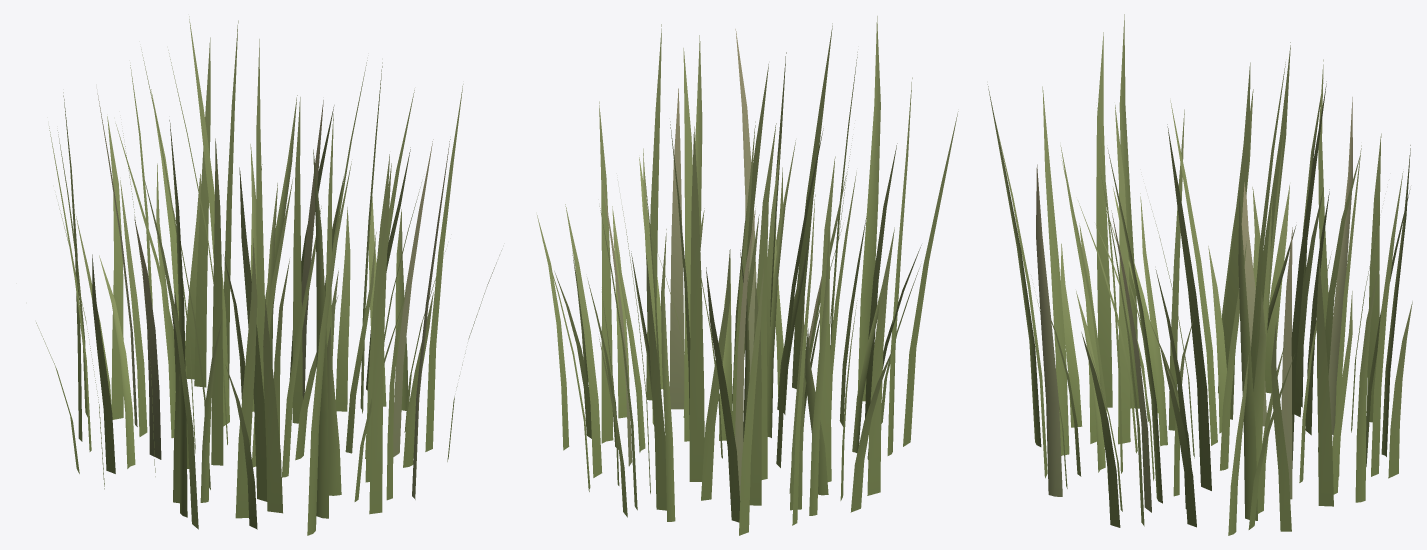
The model's file is grass-tuft-a.glb.
3 renders of one model, left to right at view 1: azimuth 30°, elevation 25°; view 2: azimuth 150°, elevation 25°; view 3: azimuth 270°, elevation 25°, orthographic. The views are drawn at different scales.
Parts seen in each view (by area): view 1: grass-tuft-a_LOD0; view 2: grass-tuft-a_LOD0; view 3: grass-tuft-a_LOD0.
Part boxes in pixels (left/top/right/bottom): grass-tuft-a_LOD0: left=36, top=16, right=501, bottom=535; grass-tuft-a_LOD0: left=537, top=16, right=958, bottom=535; grass-tuft-a_LOD0: left=987, top=14, right=1412, bottom=535.
Size of what is drawn, in the model's own units: 1 by 1 by 1.
